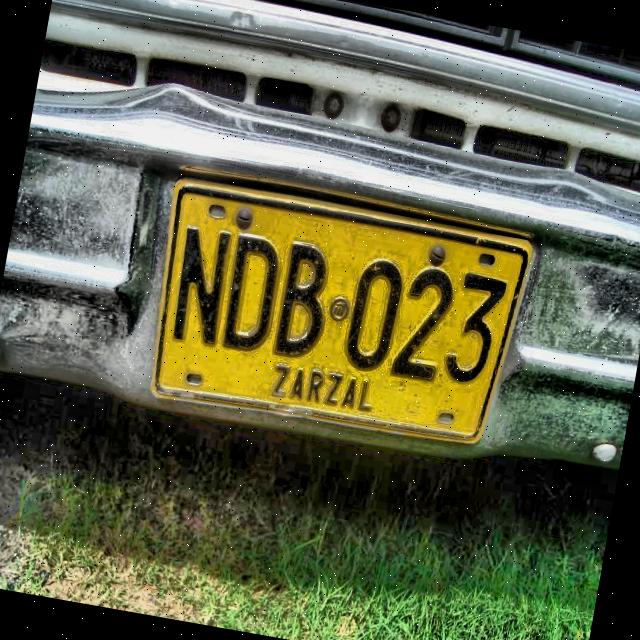0: (339, 251, 408, 378)
2: (388, 260, 460, 387)
3: (440, 267, 513, 393)
B: (267, 238, 339, 366)
D: (216, 230, 287, 356)
N: (167, 221, 237, 348)
